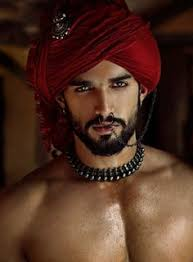middle_eastern_male: (59, 62, 154, 156)
